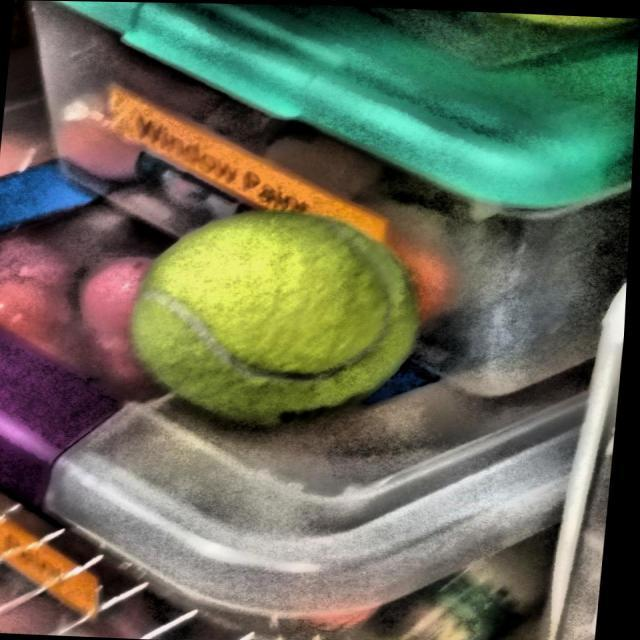tennis-ball: (119, 198, 443, 438)
